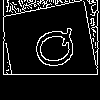Q: (24, 25, 79, 73)
